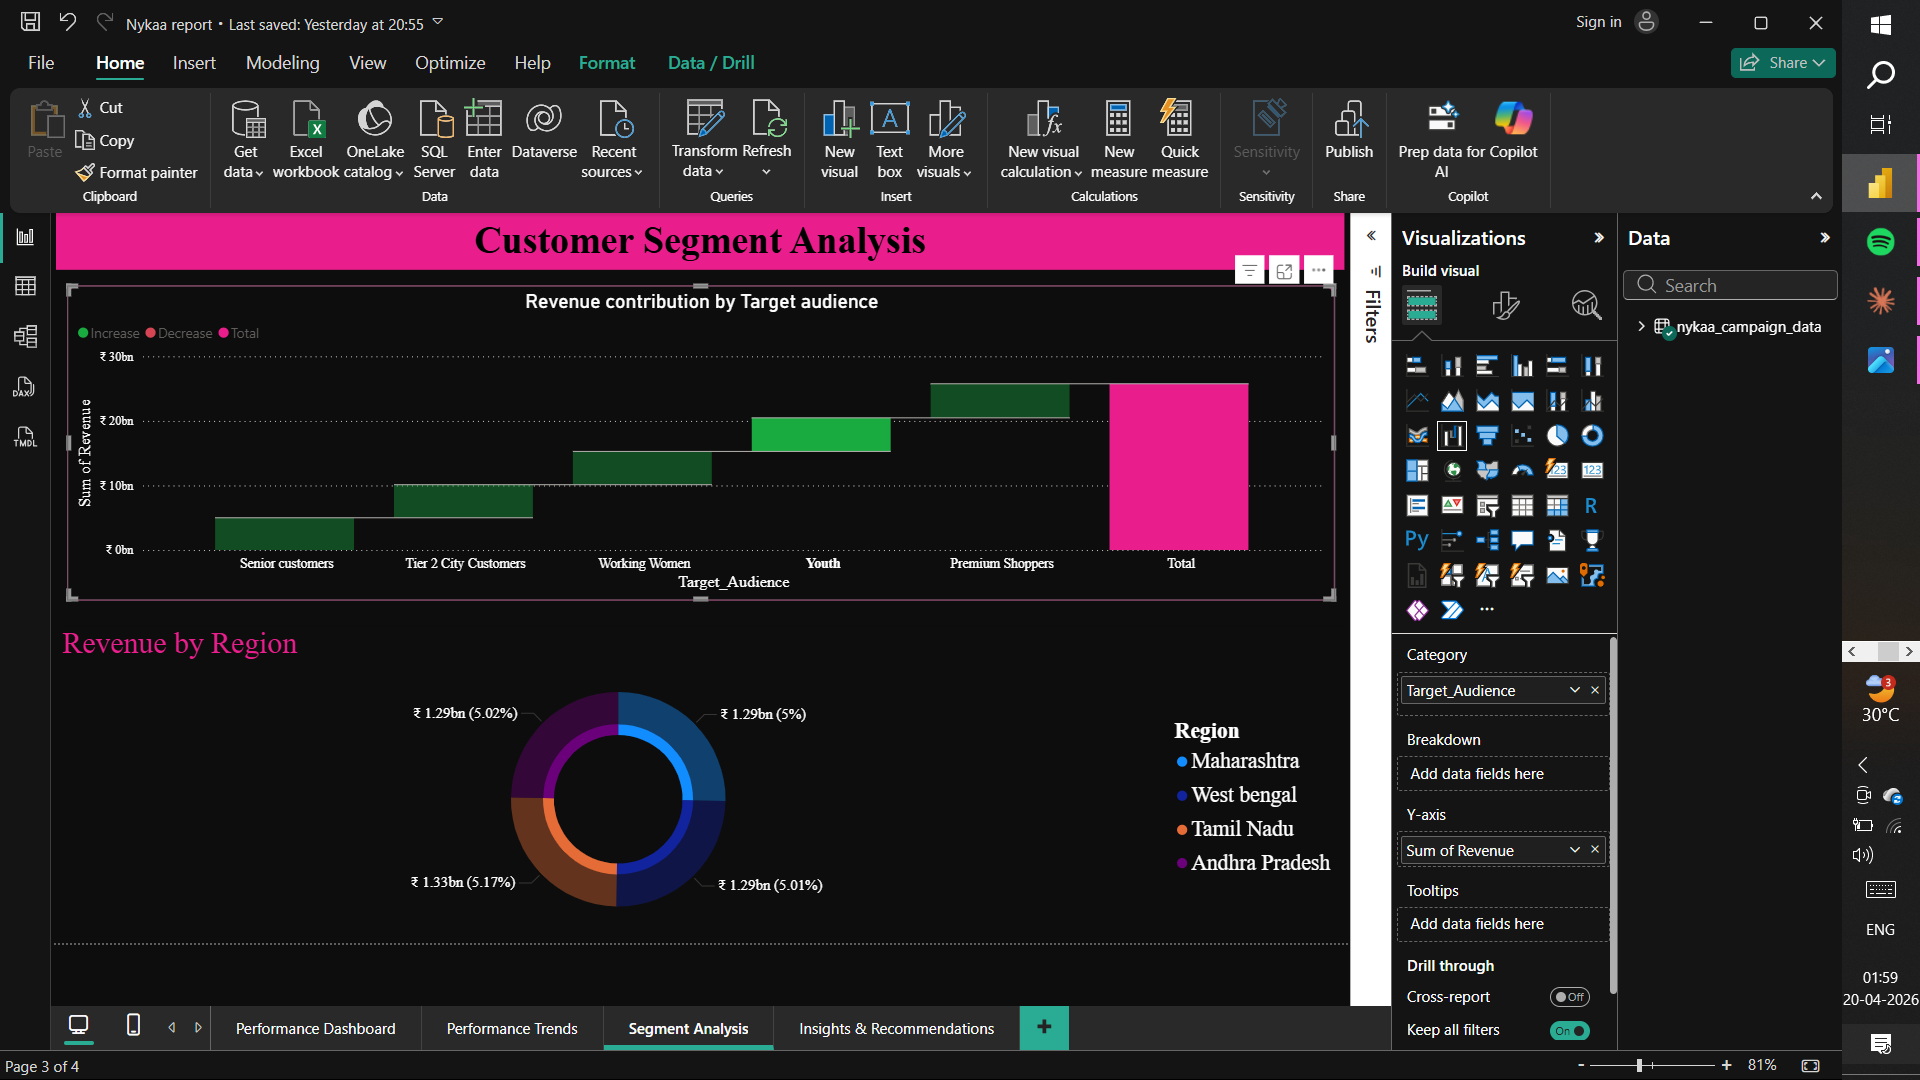

What the dashboard file says about the page in this screenshot:
{"tool":"powerbi","page":{"name":"Segment Analysis","canvas":[1280,720],"ordinal":2},"visuals":[{"type":"textbox","box":[5.3,0,1269.4,55.8],"z":0},{"type":"waterfallChart","title":"Revenue contribution by Target audience","fields":{"Category":["nykaa_campaign_data.Target_Audience"],"Y":["Sum(nykaa_campaign_data.Revenue)"]},"box":[16,71.4,1249,310.4],"z":1000},{"type":"donutChart","title":"Revenue by Region","fields":{"Category":["nykaa_campaign_data.Region"],"Y":["Sum(nykaa_campaign_data.Revenue)"]},"box":[6,406,1269,310],"z":2000}]}

Visuals, with their boxes on the page's 1280x720 design canvas (x1, y1, x2, y2). These are canvas units, not pixel positions in the 1920x1080 screenshot, which may show the page scaled, cropped or inside an application window:
textbox: 5:0:1275:56
"Revenue contribution by Target audience" waterfallChart: 16:71:1265:382
"Revenue by Region" donutChart: 6:406:1275:716
